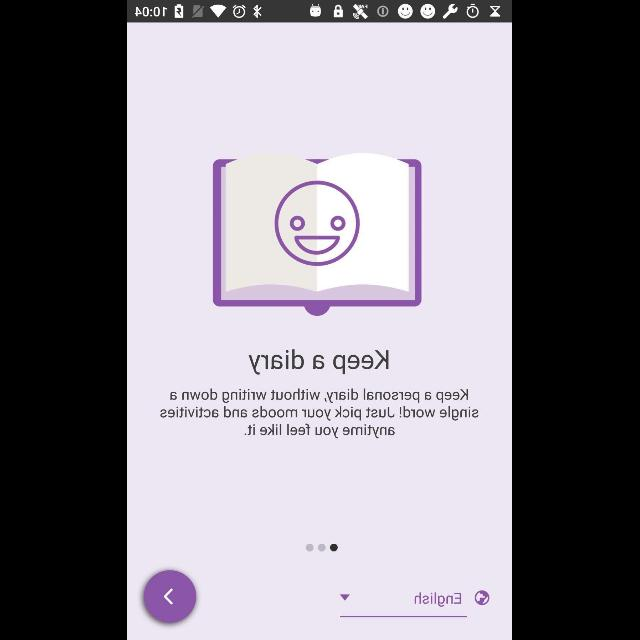button: (144, 570, 198, 624)
icon: (341, 594, 351, 600)
image: (212, 152, 424, 316), (476, 590, 490, 606)
pageindicator: (306, 544, 338, 552)
spinner: (338, 592, 468, 618)
text: (160, 388, 480, 440), (250, 348, 390, 376), (413, 593, 462, 605)
uppertaskbar: (128, 1, 512, 23)
